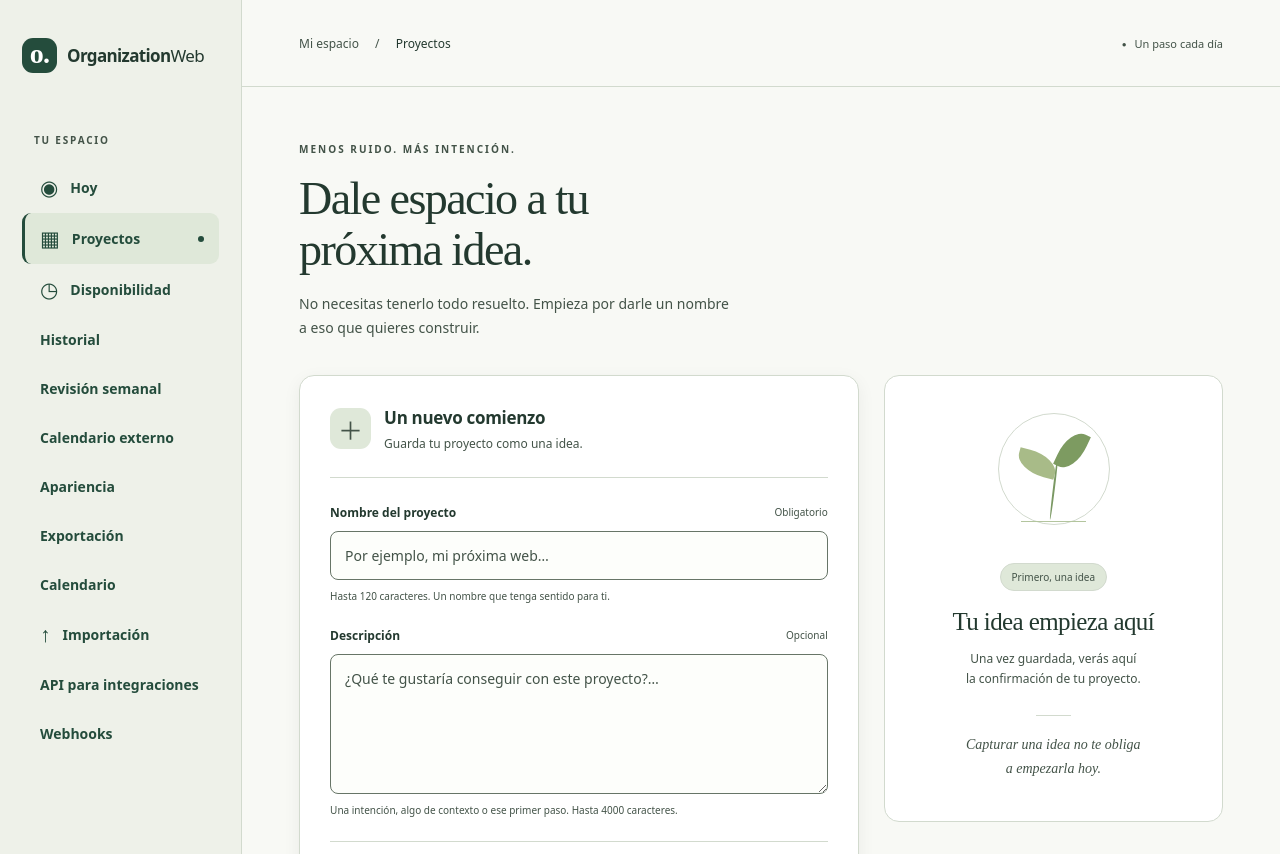
Test: @s33 import23 adds one private navigation route without starting a request
Click the link "↑ Importación": {"x": 95, "y": 634} [40,620,150,648]
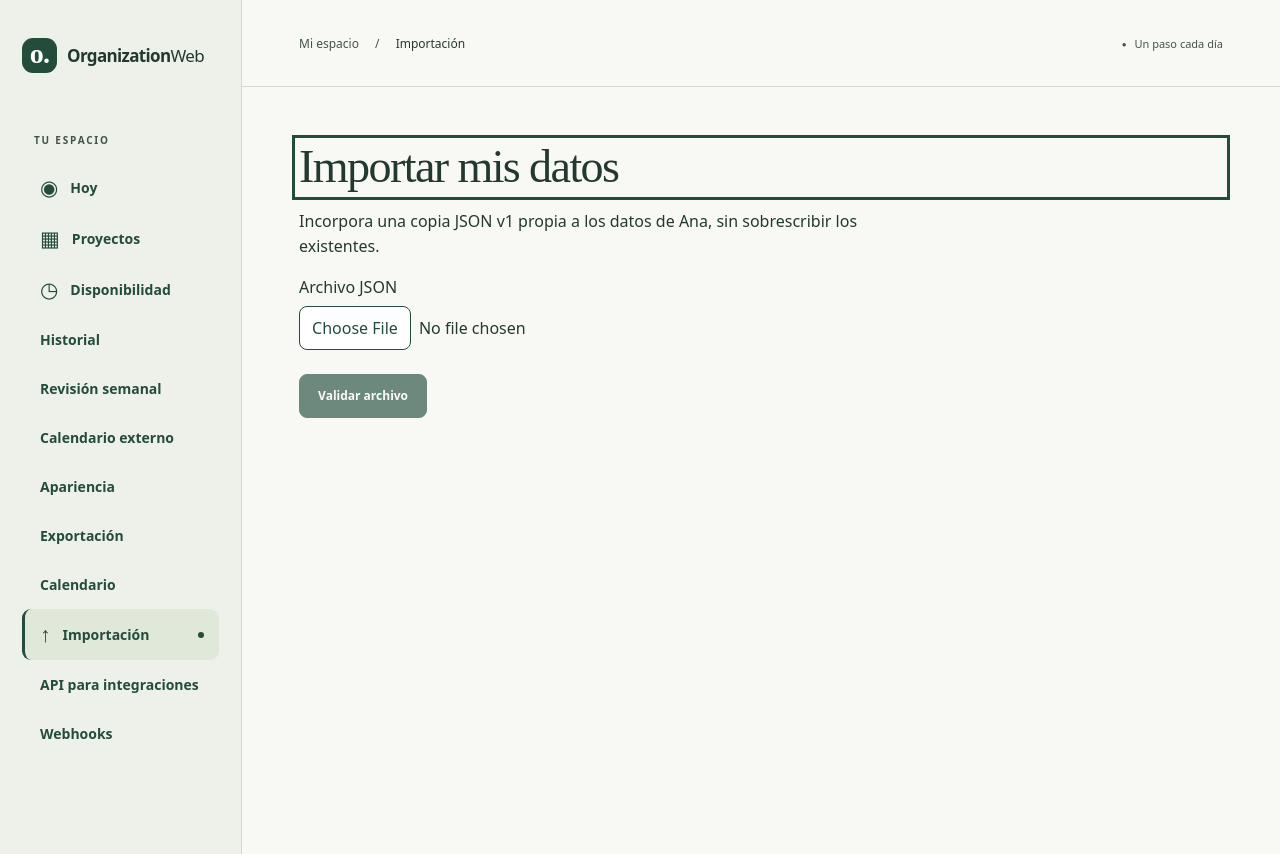
Now the heading "Importar mis datos" is shown, box [299,141,618,192]
